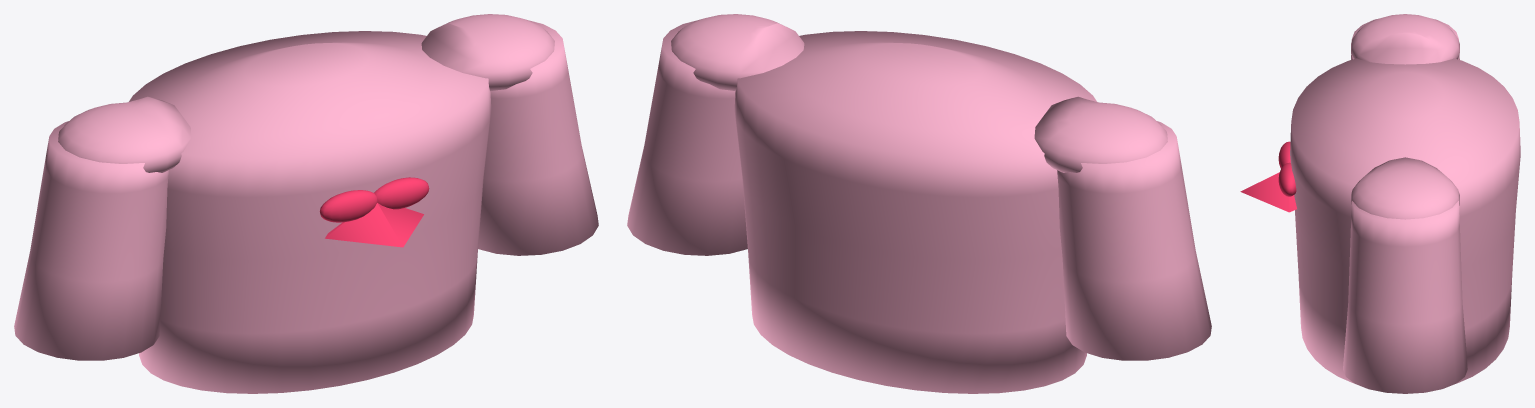
File: top_cute_1.glb
3 views of the same model, side by side, from view 1: azimuth 30°, elevation 25°; view 2: azimuth 150°, elevation 25°; view 3: azimuth 270°, elevation 25° (orthographic). The views are drawn at different scales.
Bounding box in the file's own units: 0.6992 × 0.3212 × 0.3519.
